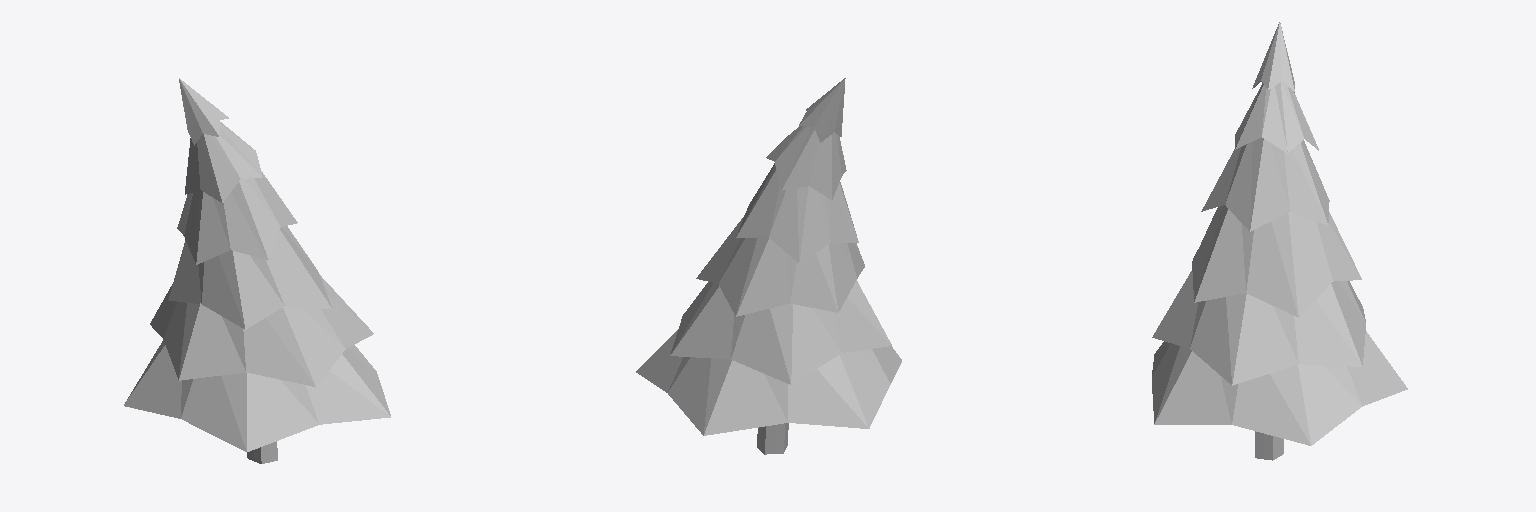
The model's file is Pine_Tree_2_Summer.obj.
3 views of the same model, side by side, from view 1: azimuth 30°, elevation 25°; view 2: azimuth 150°, elevation 25°; view 3: azimuth 270°, elevation 25° (orthographic).
Parts seen in each view (by area): view 1: Pine_Tree_2_Summer_Cylinder.011; view 2: Pine_Tree_2_Summer_Cylinder.011; view 3: Pine_Tree_2_Summer_Cylinder.011.
Part boxes in pixels (x1,y1,x2,y2): Pine_Tree_2_Summer_Cylinder.011: (124, 78, 390, 463); Pine_Tree_2_Summer_Cylinder.011: (636, 78, 901, 454); Pine_Tree_2_Summer_Cylinder.011: (1152, 22, 1407, 460).
Bounding box in the file's own units: 3.96 × 6.39 × 3.77.